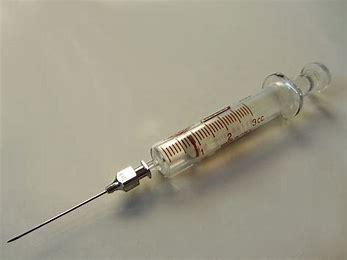Syringe: (2, 57, 338, 249)
